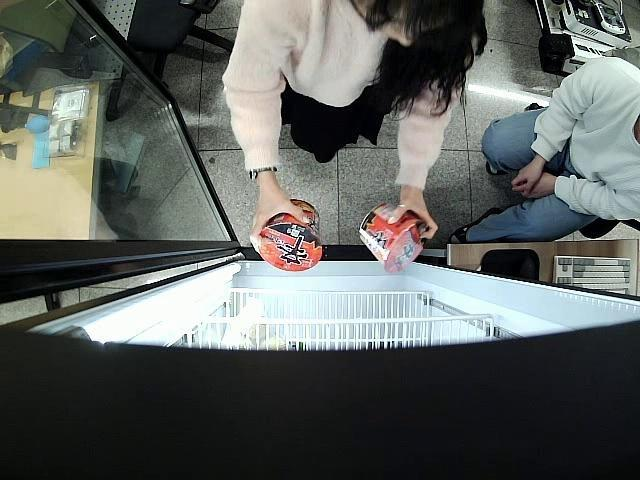01_ShinRamen_L: (358, 202, 428, 273), (258, 198, 322, 272)
